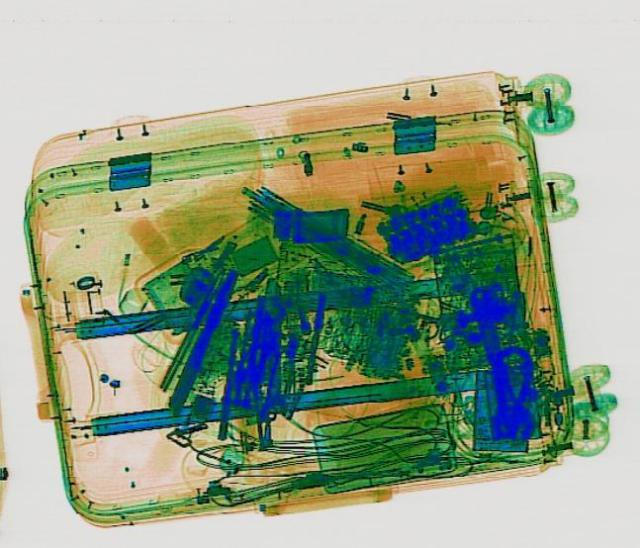Wrench: (456, 282, 540, 445), (257, 303, 287, 418)
